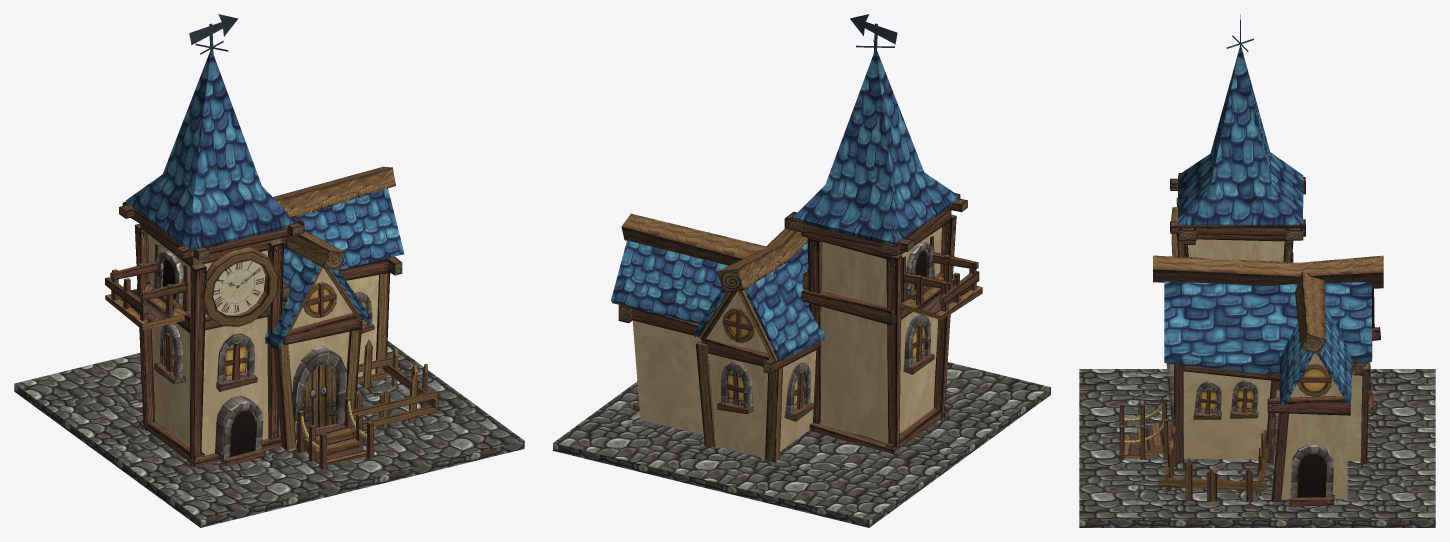
Rendered from Town_hall_1.FBX.
3 views of the same model, side by side, from view 1: azimuth 30°, elevation 25°; view 2: azimuth 150°, elevation 25°; view 3: azimuth 270°, elevation 25° (orthographic). The views are drawn at different scales.
Visible parts, largest first — view 1: bedrock016, Pyramid001, Box089, Box005, wood_fence001, large_wood008, Box087 (×2), wood_table433, madera018, Box004, rosette003, frame_tunnel014 (+19 smaller); view 2: bedrock016, Pyramid001, Box089, Box087 (×2), Box005, Box088, Box004, large_wood008, wood_table432, large_wood057, wood_table433, wood_table431 (+15 smaller); view 3: bedrock016, Box004, Pyramid001, Box087, large_wood057, Box088, Box005, wood_fence001, large_wood008, Box089, wood_table391, wood_table434 (+9 smaller).
Boxes of the visible parts, <box> form: bedrock016: <box>14,341,524,527</box>; Pyramid001: <box>125,51,296,250</box>; Box089: <box>148,234,268,455</box>; Box005: <box>296,188,404,269</box>; wood_fence001: <box>351,339,438,434</box>; large_wood008: <box>273,166,395,216</box>; Box087 (×2): <box>189,14,352,444</box>; wood_table433: <box>190,263,206,460</box>; madera018: <box>202,246,278,326</box>; Box004: <box>265,247,370,349</box>; rosette003: <box>213,260,265,314</box>; frame_tunnel014: <box>292,346,346,434</box>; bedrock016: <box>553,362,1050,527</box>; Pyramid001: <box>792,50,959,244</box>; Box089: <box>819,227,941,443</box>; Box087 (×2): <box>706,14,897,458</box>; Box005: <box>611,240,777,323</box>; Box088: <box>632,320,703,435</box>; Box004: <box>694,243,824,361</box>; large_wood008: <box>621,213,769,265</box>; wood_table432: <box>886,254,901,449</box>; large_wood057: <box>717,228,807,292</box>; wood_table433: <box>933,214,956,418</box>; wood_table431: <box>807,237,822,424</box>; bedrock016: <box>1079,369,1435,527</box>; Box004: <box>1164,281,1371,374</box>; Pyramid001: <box>1178,46,1303,225</box>; Box087: <box>1183,370,1362,460</box>; large_wood057: <box>1153,255,1383,288</box>; Box088: <box>1273,353,1347,499</box>; Box005: <box>1280,305,1351,406</box>; wood_fence001: <box>1158,426,1267,501</box>; large_wood008: <box>1295,270,1325,354</box>; Box089: <box>1188,239,1284,261</box>; wood_table391: <box>1267,396,1350,415</box>; wood_table434: <box>1170,219,1305,236</box>.
Bounding box in the file's own units: 99.66 × 99.21 × 126.
